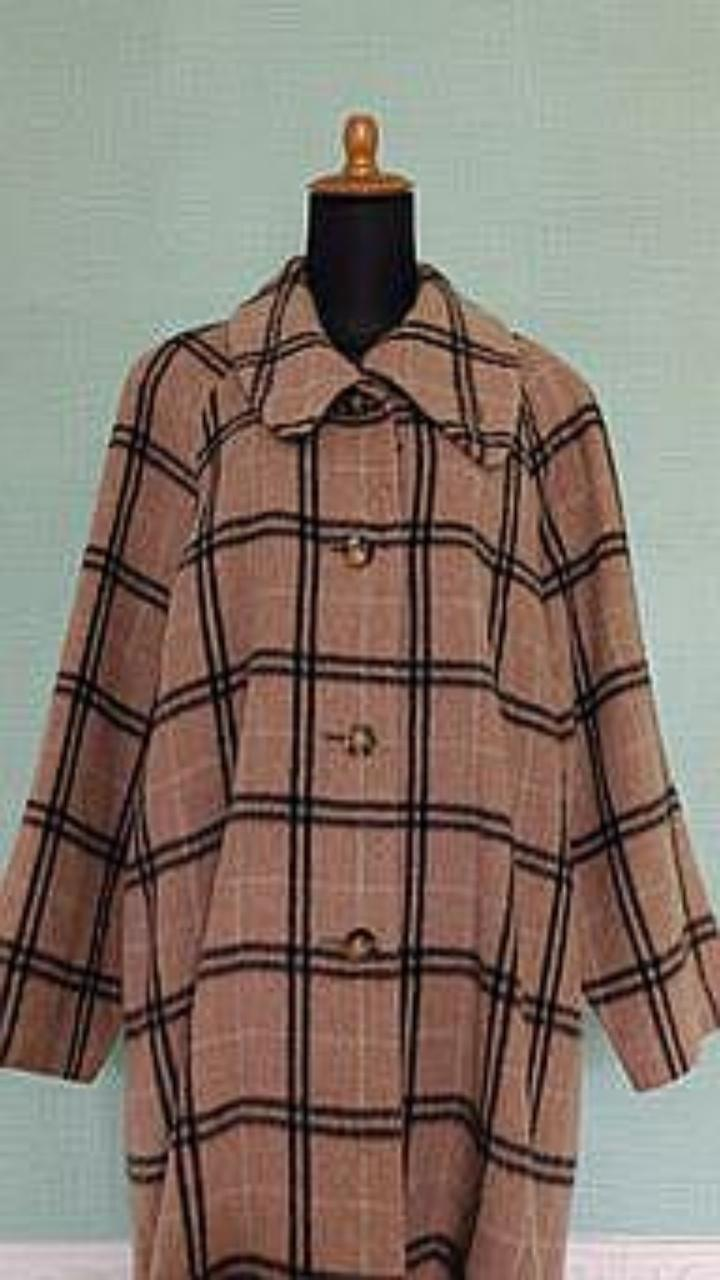Coat: (0, 255, 719, 1279)
